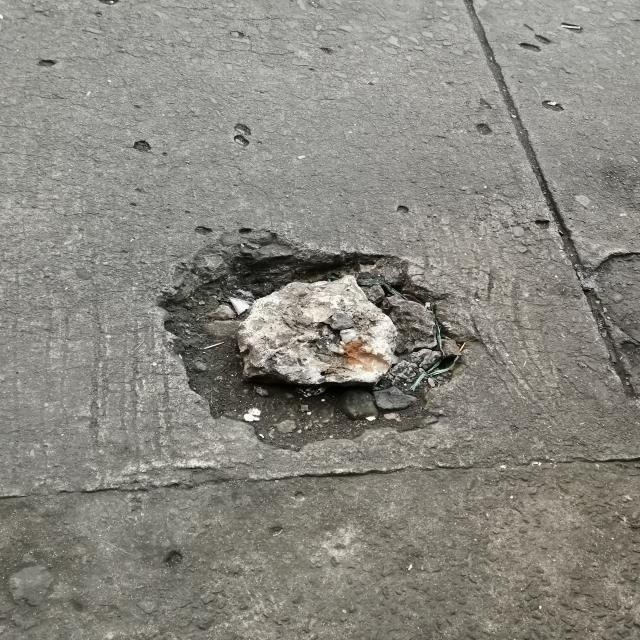pothole: (134, 168, 486, 494)
